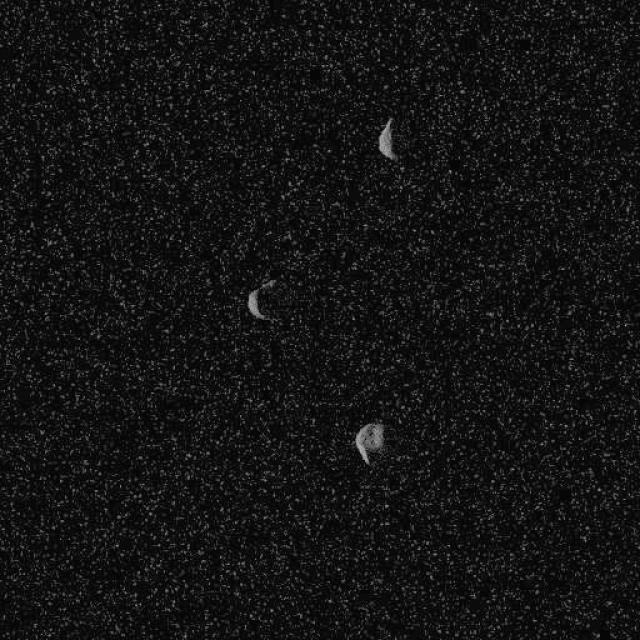D2: (246, 276, 278, 322), (354, 420, 385, 465), (377, 116, 398, 162)
